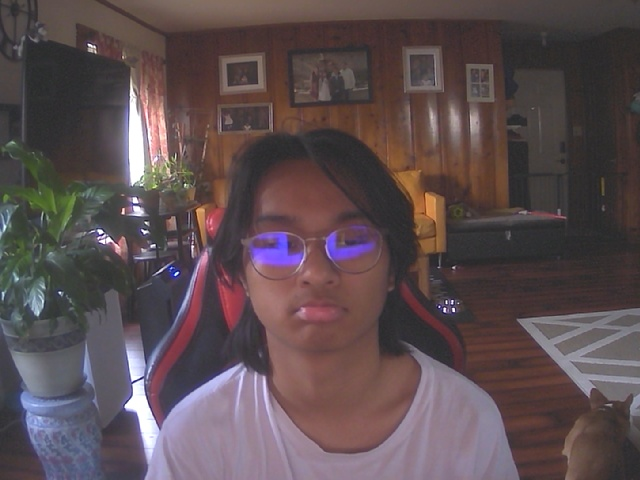sad: (233, 141, 406, 355)
